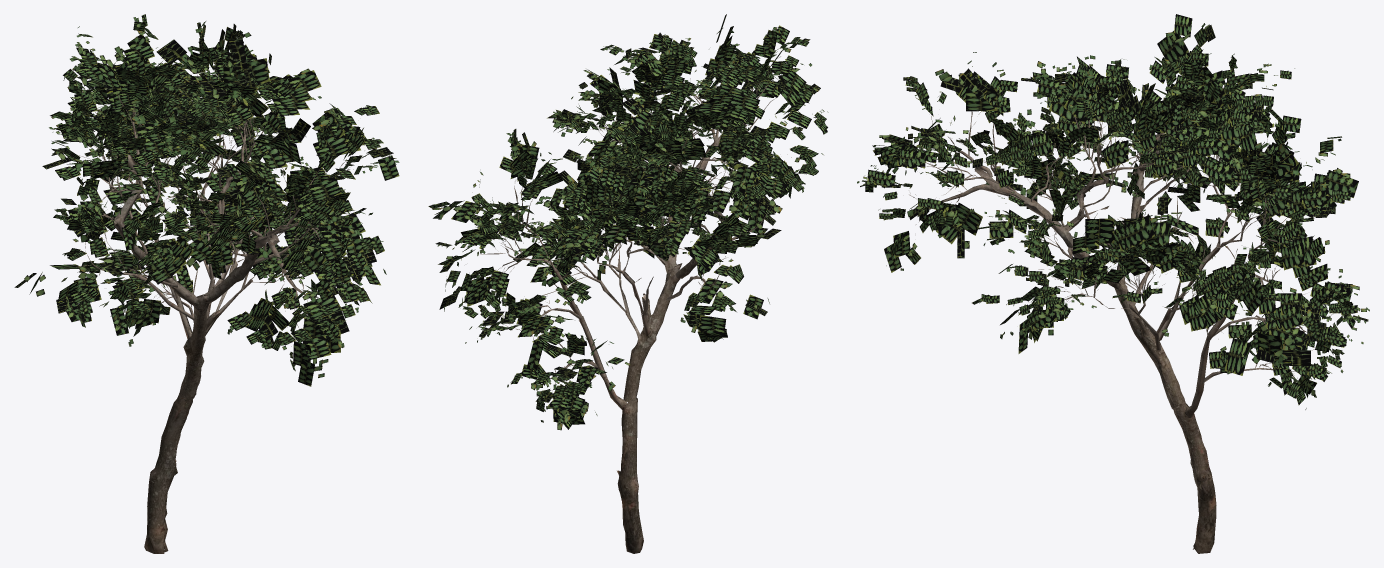
File: tree_small_02.glb
The picture shows the model from 3 angles, left to right: view 1: azimuth 30°, elevation 25°; view 2: azimuth 150°, elevation 25°; view 3: azimuth 270°, elevation 25°; orthographic projection. The views are drawn at different scales.
Parts seen in each view (by area): view 1: tree_small_02_LOD0.002, tree_small_02_LOD0, tree_small_02_LOD0.001; view 2: tree_small_02_LOD0.002, tree_small_02_LOD0, tree_small_02_LOD0.001; view 3: tree_small_02_LOD0.002, tree_small_02_LOD0, tree_small_02_LOD0.001.
Boxes of the visible parts, x1,y1,x2,y2 form: tree_small_02_LOD0.002: (14, 14, 399, 386); tree_small_02_LOD0: (86, 154, 299, 553); tree_small_02_LOD0.001: (73, 61, 364, 346); tree_small_02_LOD0.002: (428, 14, 828, 430); tree_small_02_LOD0: (538, 125, 747, 553); tree_small_02_LOD0.001: (472, 47, 791, 390); tree_small_02_LOD0.002: (857, 14, 1369, 409); tree_small_02_LOD0: (974, 133, 1249, 553); tree_small_02_LOD0.001: (909, 49, 1337, 384).
Bounding box in the file's own units: 2.95 × 4.56 × 4.29.
3 materials, 3 textured.
